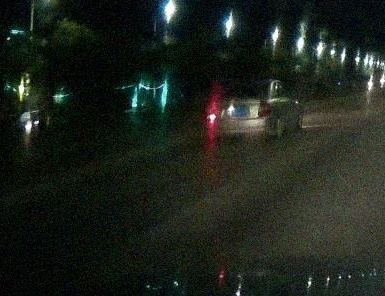L_light: (207, 105, 219, 121)
R_light: (258, 102, 271, 117)
T_light: (238, 84, 249, 87)
night-left: (207, 80, 271, 149)
